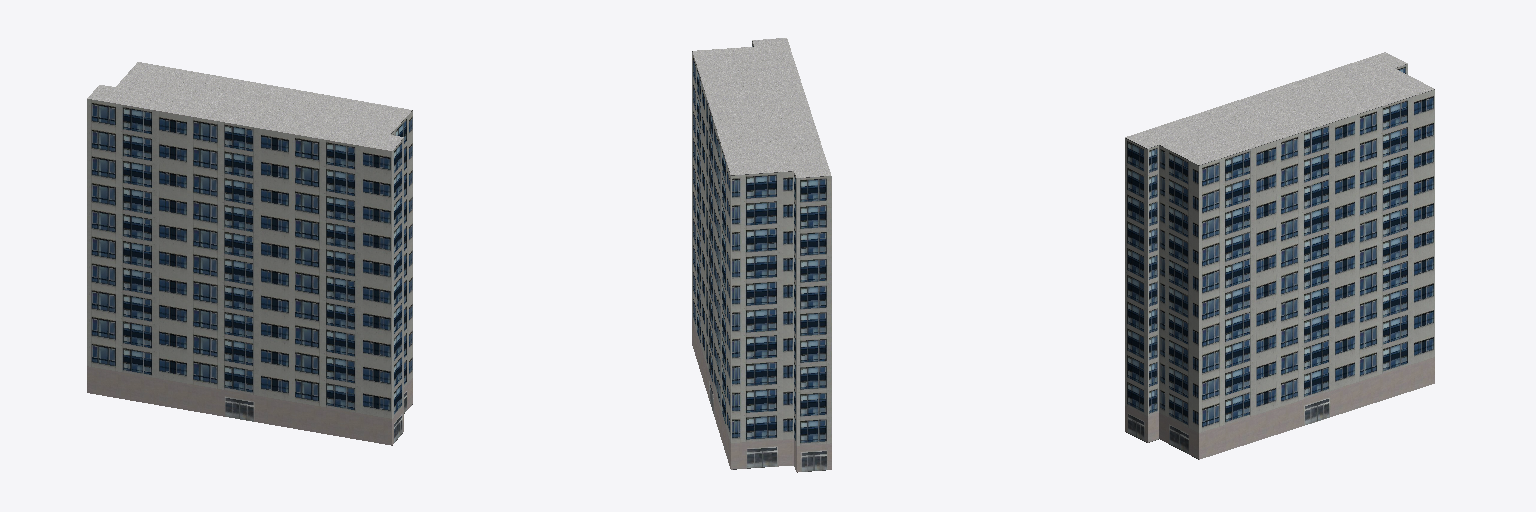
3 views of the same model, side by side, from view 1: azimuth 30°, elevation 25°; view 2: azimuth 150°, elevation 25°; view 3: azimuth 270°, elevation 25° (orthographic).
Parts seen in each view (by area): view 1: BuildingMaster_[number redacted]_0, BuildingMaster_[number redacted]_1; view 2: BuildingMaster_[number redacted]_0, BuildingMaster_[number redacted]_1; view 3: BuildingMaster_[number redacted]_0, BuildingMaster_[number redacted]_1.
Part boxes in pixels (left/top/right/bottom): BuildingMaster_[number redacted]_0: left=87, top=99, right=412, bottom=445; BuildingMaster_[number redacted]_1: left=87, top=62, right=411, bottom=150; BuildingMaster_[number redacted]_0: left=692, top=41, right=831, bottom=472; BuildingMaster_[number redacted]_1: left=693, top=38, right=830, bottom=177; BuildingMaster_[number redacted]_0: left=1125, top=64, right=1434, bottom=459; BuildingMaster_[number redacted]_1: left=1125, top=52, right=1433, bottom=164.
Bounding box in the file's own units: 31.8 × 38.5 × 36.82.
Materials: 2 (2 with a texture image).